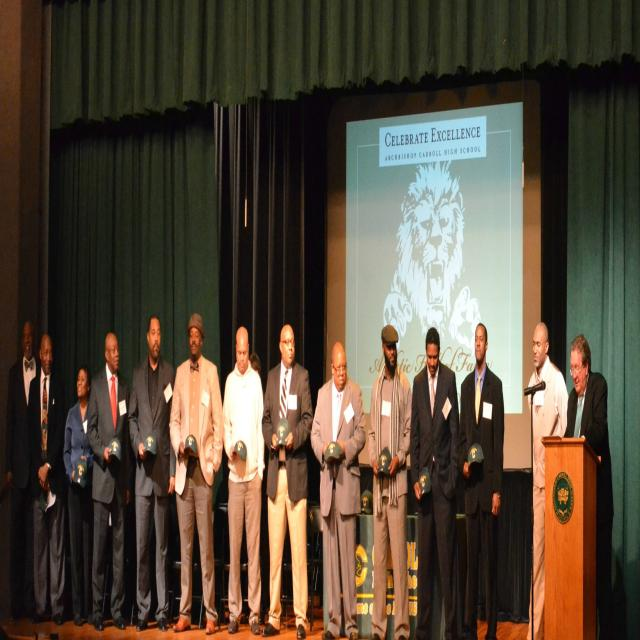body: (167, 309, 225, 638), (308, 338, 367, 640), (408, 324, 464, 640), (260, 321, 315, 639), (456, 318, 508, 640), (127, 312, 178, 632), (563, 334, 615, 638), (367, 322, 413, 640), (525, 318, 570, 640), (24, 328, 71, 628), (86, 330, 132, 631), (222, 325, 266, 636), (8, 317, 38, 624), (62, 365, 94, 628), (248, 351, 264, 382)
